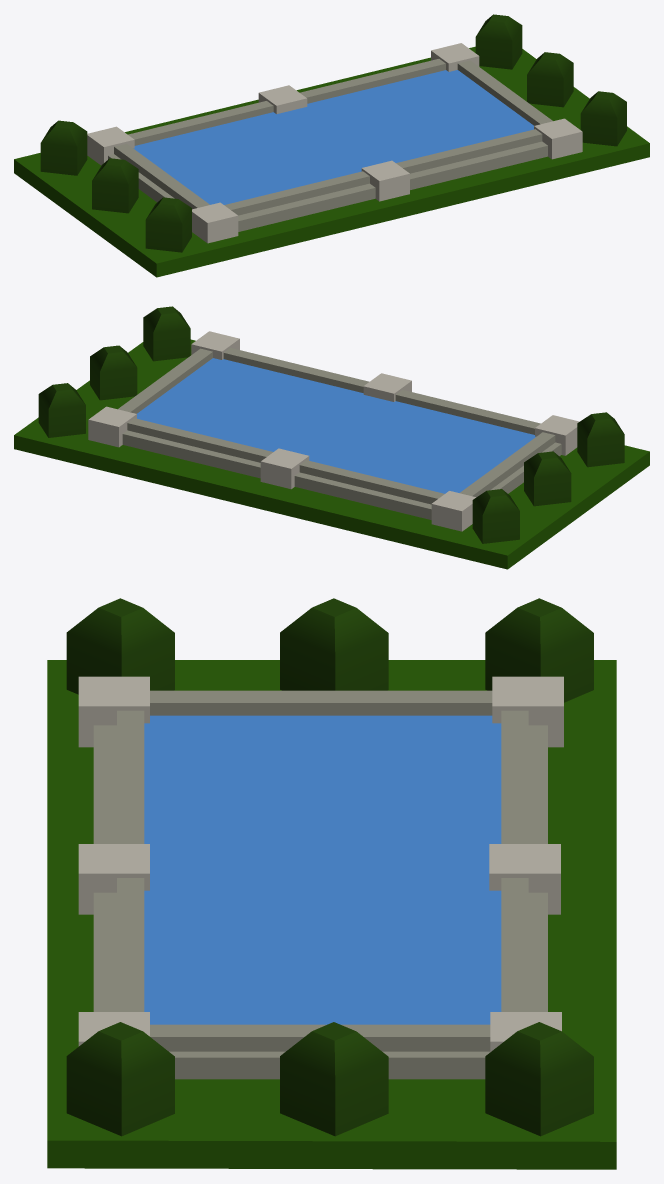
Rendered from park_reflectingpool.fbx.
3 views of the same model, one above another, from view 1: azimuth 30°, elevation 25°; view 2: azimuth 150°, elevation 25°; view 3: azimuth 270°, elevation 25° (orthographic). The views are drawn at different scales.
Visible parts, largest first — view 1: polySurface1551; view 2: polySurface1551; view 3: polySurface1551.
Part boxes in pixels (x1,y1,x2,y2): polySurface1551: (14, 14, 649, 277); polySurface1551: (14, 306, 649, 569); polySurface1551: (47, 598, 616, 1169).
Bounding box in the file's own units: 200 × 22.78 × 100.
Materials: 1 (1 with a texture image).
